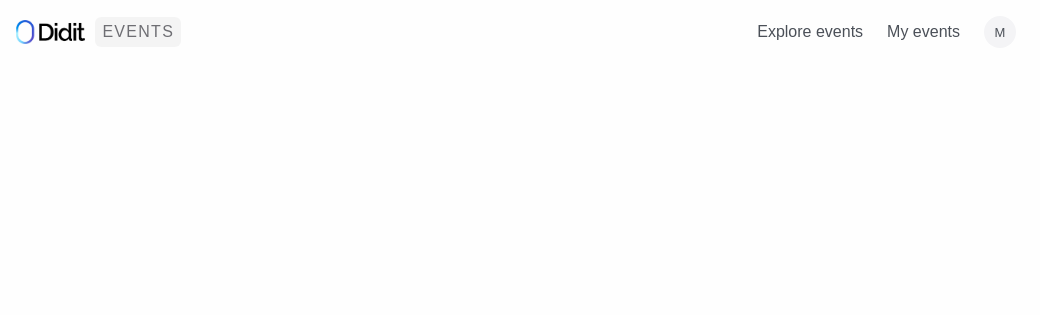
header avatar menu › Sign out posts the CSRF-guarded sign-out form
This screenshot has width=1040, height=315.
Click the button "M" at (1000, 32), box [978,10,1022,54]
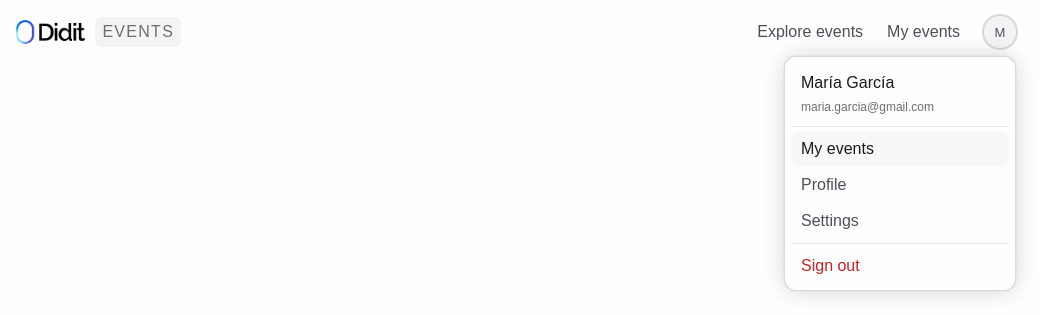
Now the menu named "csrf" holds "csrf-token", box [784,56,1016,291]
